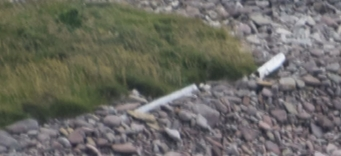straight_bar: (130, 81, 200, 124), (251, 47, 290, 81)
